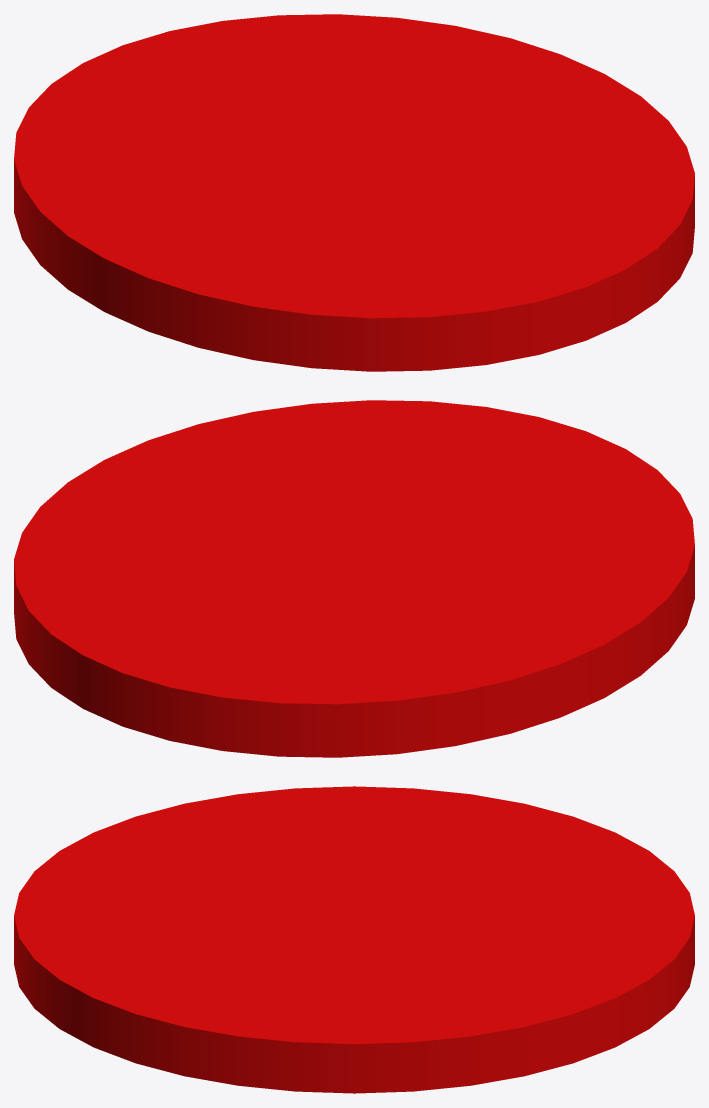
3 views of the same model, one above another, from view 1: azimuth 30°, elevation 25°; view 2: azimuth 150°, elevation 25°; view 3: azimuth 270°, elevation 25° (orthographic). The views are drawn at different scales.
Visible parts, largest first — view 1: pCylinder1; view 2: pCylinder1; view 3: pCylinder1.
Part boxes in pixels (x1,y1,x2,y2): pCylinder1: (14,14,694,371); pCylinder1: (14,400,694,757); pCylinder1: (14,786,694,1093).
Size of the model in its own units: 2 by 0.1784 by 2.23.
